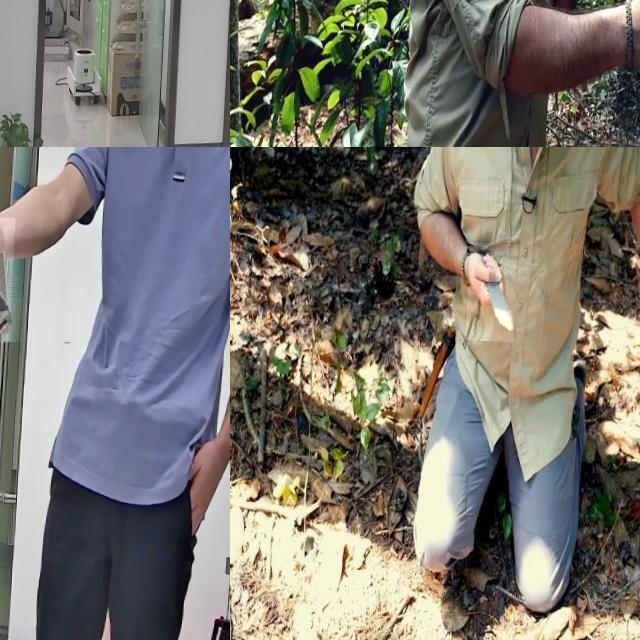-: (468, 240, 520, 340)
gun-knife-thesis - v11 Yolov5 augmented: (0, 211, 60, 340)
